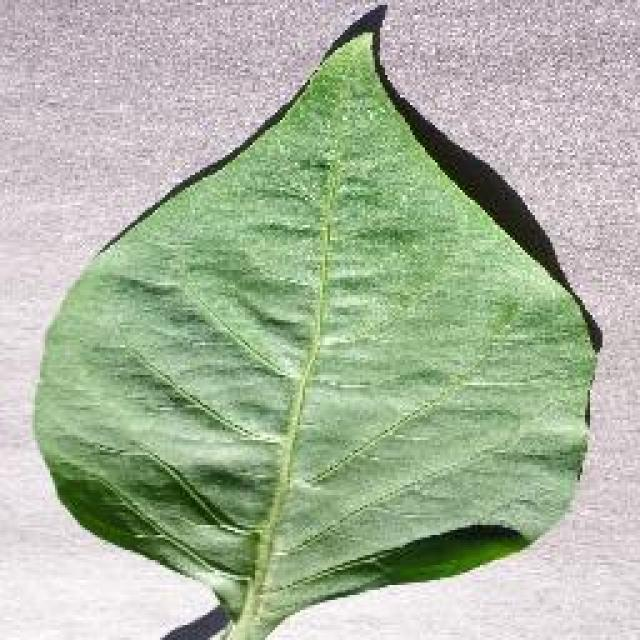Chilli_Healthy: (30, 2, 602, 638)
